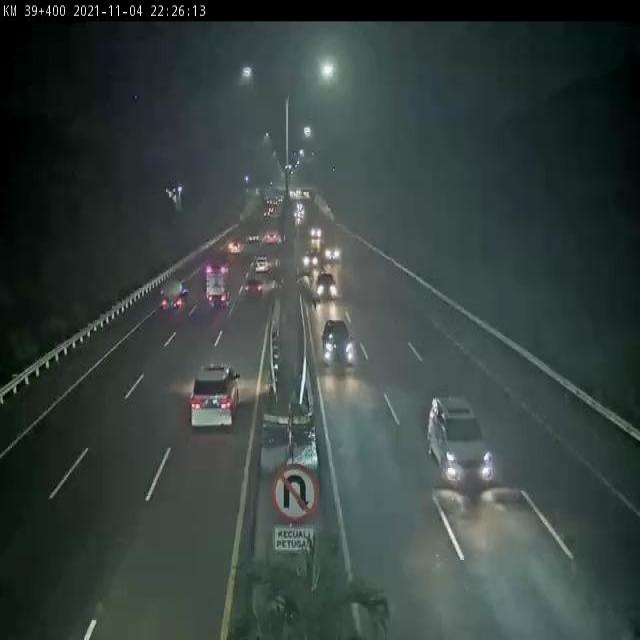Car: (410, 392, 502, 494), (182, 358, 247, 432), (315, 312, 359, 376), (311, 270, 340, 303), (298, 242, 322, 274), (322, 234, 344, 266), (241, 278, 268, 302), (222, 234, 245, 259), (306, 218, 328, 244), (252, 251, 275, 273)
Truck: (198, 263, 234, 315), (154, 274, 192, 321)
